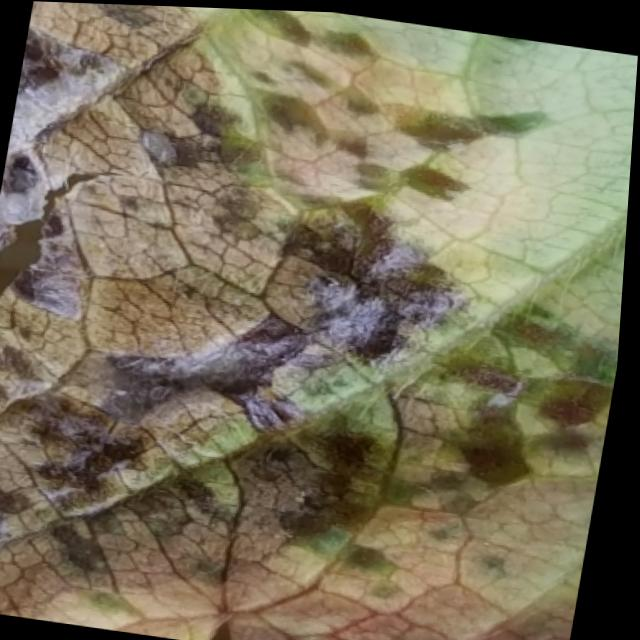Angular Leafspot: (0, 1, 625, 640)
